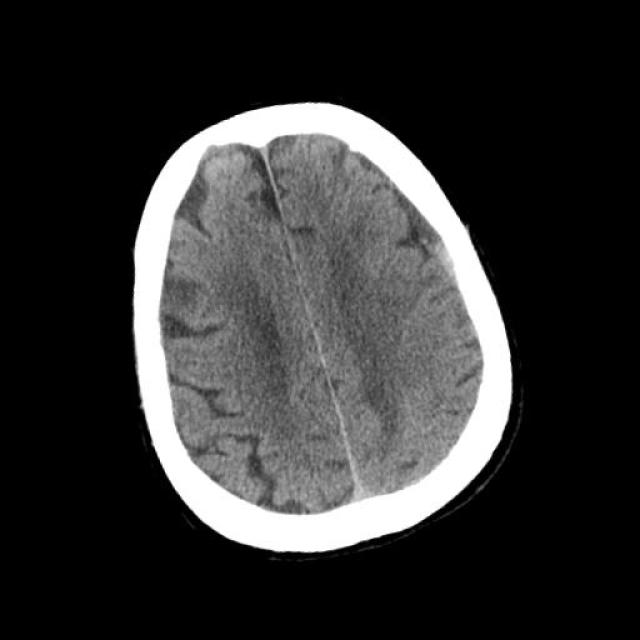Subdural: (405, 193, 504, 347)
